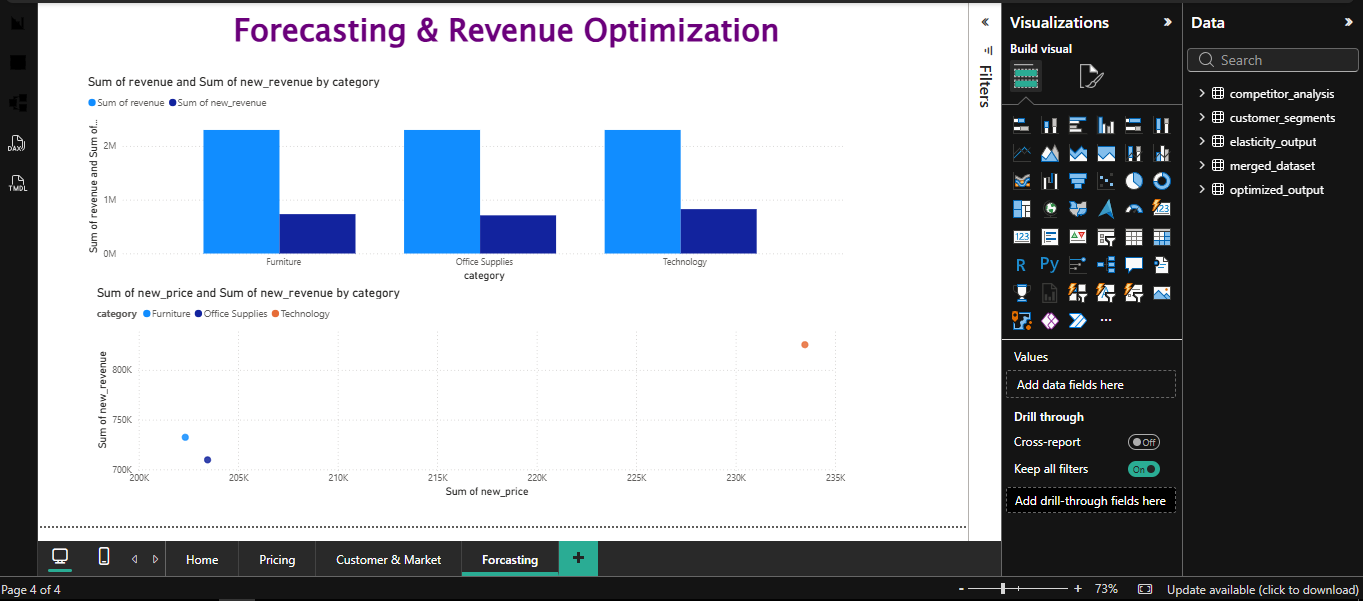

The page's visual inventory and layout, read from the dashboard file:
{"tool":"powerbi","page":{"name":"Forcasting","canvas":[1280,720],"ordinal":3},"visuals":[{"type":"textbox","box":[9.6,0,1270.4,77.1],"z":0},{"type":"clusteredColumnChart","fields":{"Category":["competitor_analysis.category"],"Y":["Sum(customer_segments.revenue)","Sum(optimized_output.new_revenue)"]},"box":[63.3,97.7,1052.9,290.4],"z":1000},{"type":"scatterChart","fields":{"X":["Sum(optimized_output.new_price)"],"Y":["Sum(optimized_output.new_revenue)"],"Series":["optimized_output.category"]},"box":[75.7,388.1,1040.5,297.3],"z":2000}]}

Visuals, with their boxes on the page's 1280x720 design canvas (x1, y1, x2, y2). These are canvas units, not pixel positions in the 1363x601 screenshot, which may show the page scaled, cropped or inside an application window:
textbox: {"x1": 10, "y1": 0, "x2": 1280, "y2": 77}
clusteredColumnChart - competitor_analysis.category x Sum(customer_segments.revenue): {"x1": 63, "y1": 98, "x2": 1116, "y2": 388}
scatterChart - Sum(optimized_output.new_price) x Sum(optimized_output.new_revenue): {"x1": 76, "y1": 388, "x2": 1116, "y2": 685}
